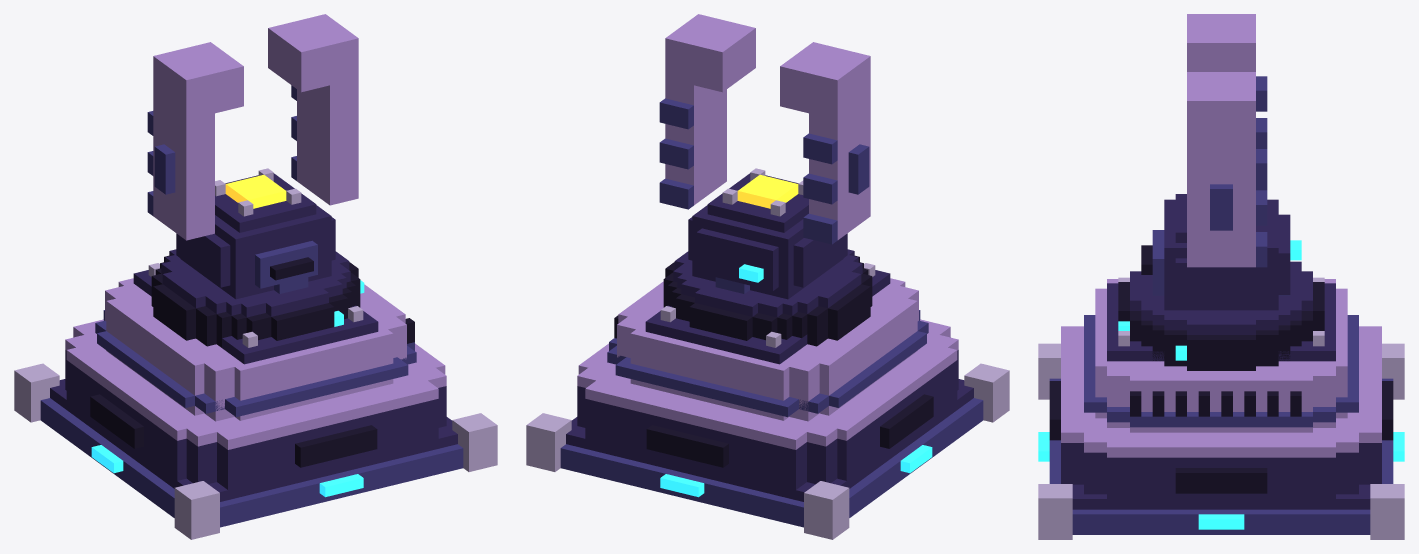
File: docking-clamp.md.glb
3 views of the same model, side by side, from view 1: azimuth 30°, elevation 25°; view 2: azimuth 150°, elevation 25°; view 3: azimuth 270°, elevation 25° (orthographic). The views are drawn at different scales.
Visible parts, largest first — view 1: docking-clamp.md; view 2: docking-clamp.md; view 3: docking-clamp.md.
Part boxes in pixels (left/top/right/bottom): docking-clamp.md: left=14, top=14, right=497, bottom=539; docking-clamp.md: left=526, top=14, right=1009, bottom=539; docking-clamp.md: left=1038, top=14, right=1404, bottom=539.
Size of the model in its own units: 2 by 2.44 by 2.
